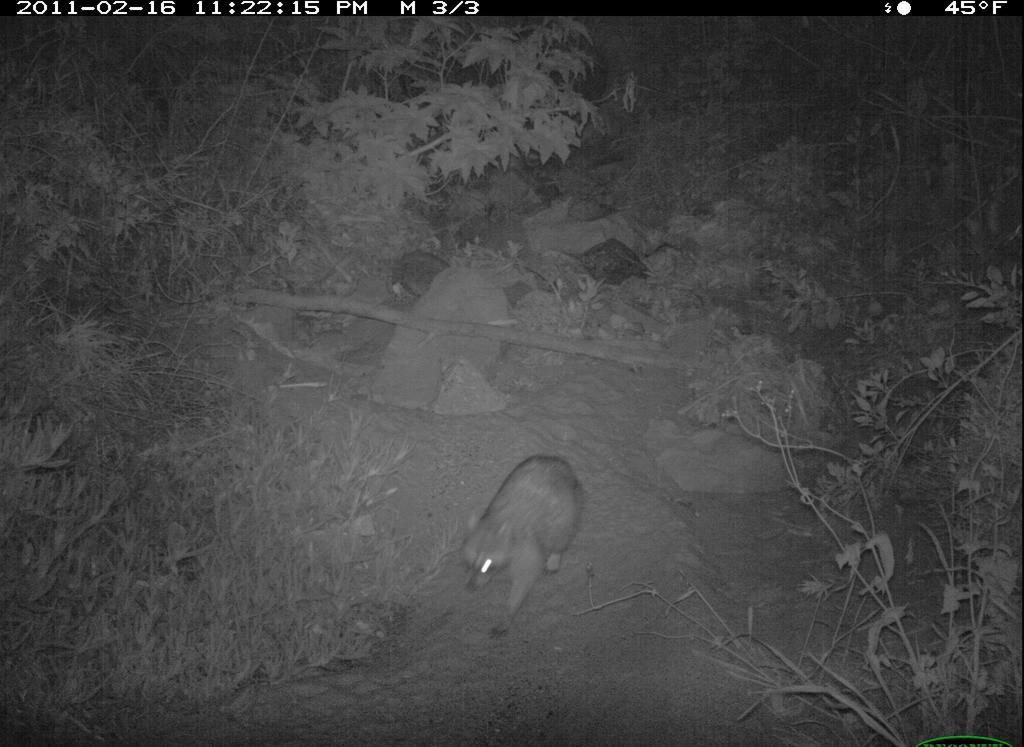raccoon: (454, 440, 592, 635)
